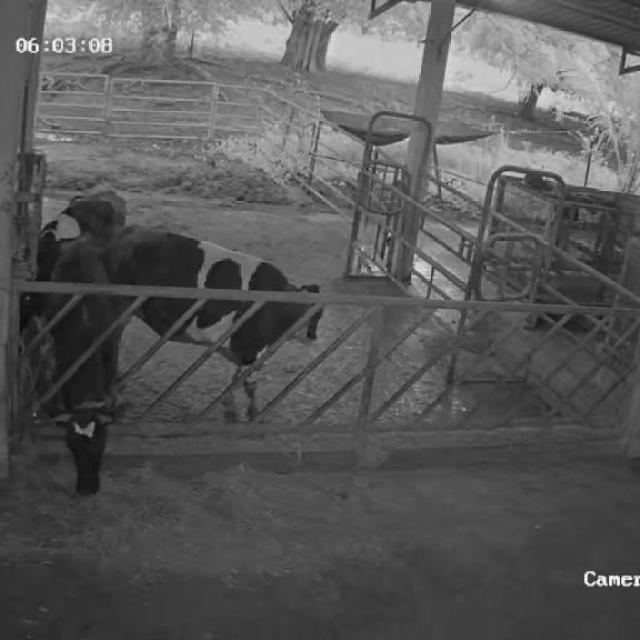feeding: (48, 234, 130, 504)
standing: (108, 220, 328, 432), (22, 190, 130, 338)
